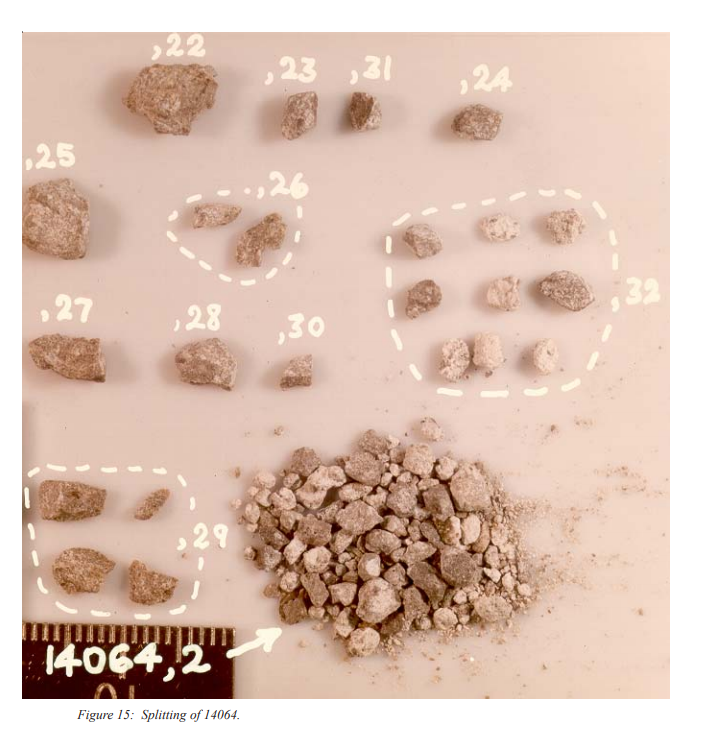Breccia: (247, 454, 571, 640), (386, 126, 589, 386), (121, 47, 511, 133), (30, 452, 178, 613), (90, 162, 297, 273), (16, 297, 74, 416), (0, 177, 55, 300), (229, 333, 316, 406), (160, 330, 247, 396)
